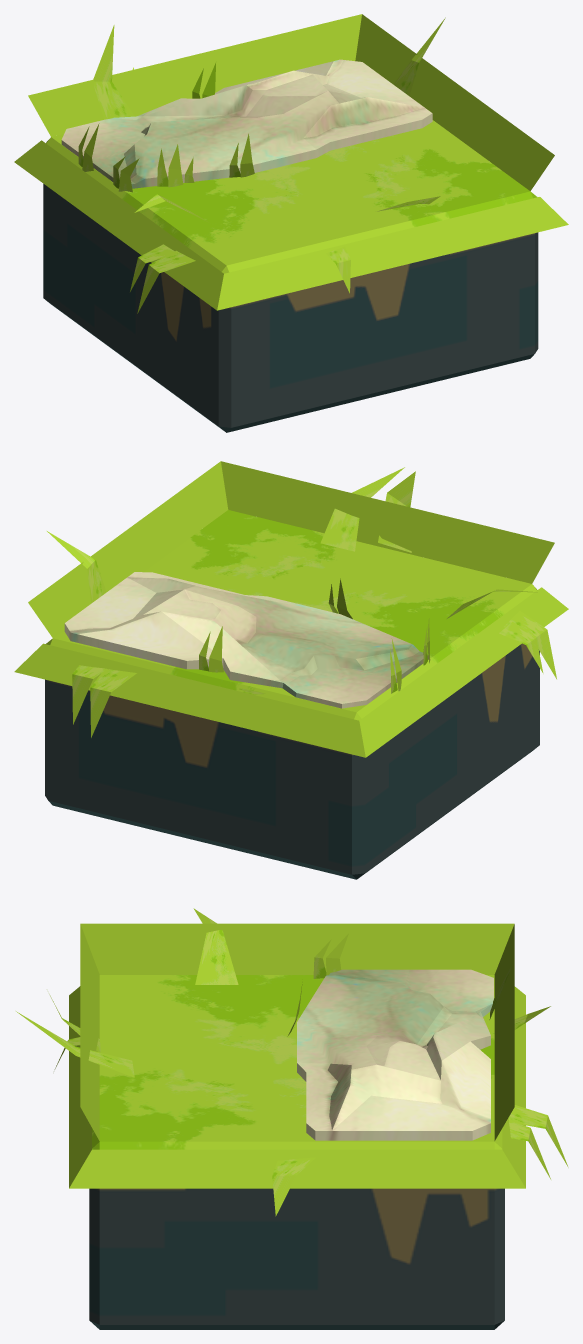
Rendered from tilegrass002.glb.
The picture shows the model from 3 angles, top to bottom: view 1: azimuth 30°, elevation 25°; view 2: azimuth 150°, elevation 25°; view 3: azimuth 270°, elevation 25°; orthographic projection. The views are drawn at different scales.
Parts seen in each view (by area): view 1: tilegrass002; view 2: tilegrass002; view 3: tilegrass002.
Boxes of the visible parts, x1,y1,x2,y2 form: tilegrass002: (14,14,568,432); tilegrass002: (14,461,568,879); tilegrass002: (16,908,568,1329).
Size of the model in its own units: 1.29 by 0.7481 by 1.34.
Materials: 2 (2 with a texture image).
